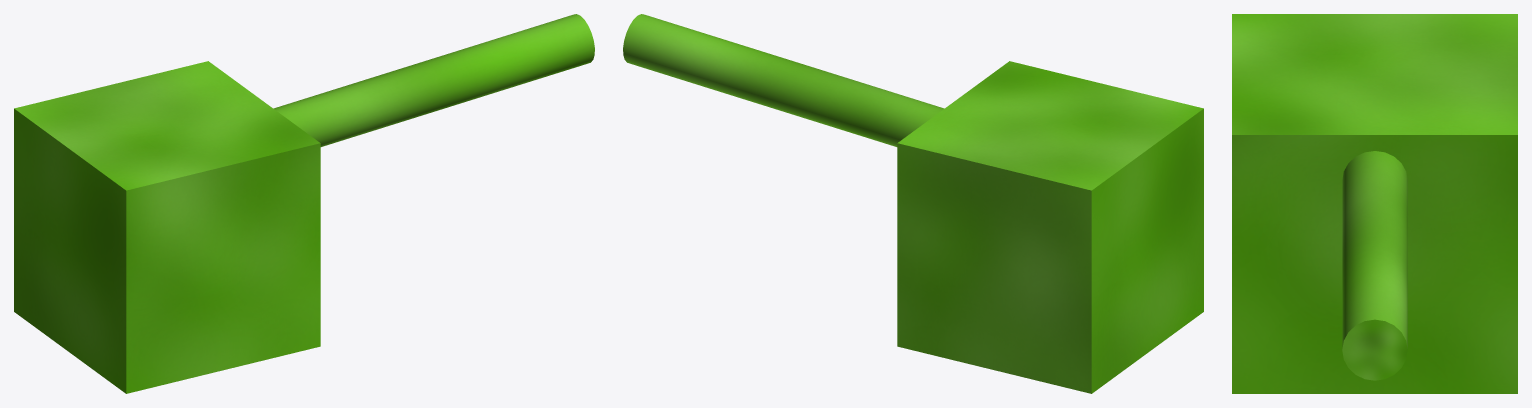
Rendered from canon.obj.
3 renders of one model, left to right at view 1: azimuth 30°, elevation 25°; view 2: azimuth 150°, elevation 25°; view 3: azimuth 270°, elevation 25°, orthographic. The views are drawn at different scales.
Visible parts, largest first — view 1: pCube1, pCylinder1; view 2: pCube1, pCylinder1; view 3: pCube1, pCylinder1.
Boxes of the visible parts, box(x1,y1,x2,y2) form: pCube1: box(14, 61, 320, 393); pCylinder1: box(273, 14, 594, 146); pCube1: box(897, 61, 1203, 393); pCylinder1: box(623, 14, 944, 146); pCube1: box(1232, 14, 1517, 393); pCylinder1: box(1342, 151, 1407, 380).
Size of the model in its own units: 2.64 by 1.05 by 1.
Materials: 1 (1 with a texture image).
